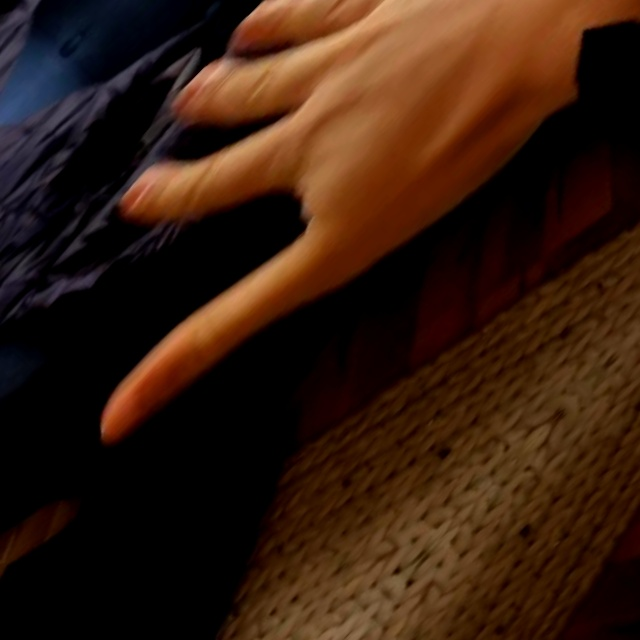Paper: (0, 0, 251, 175)
